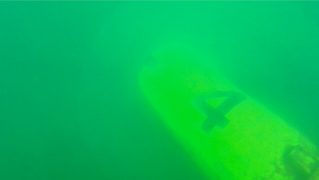4: (192, 89, 247, 135)
pipe: (138, 41, 319, 180)
